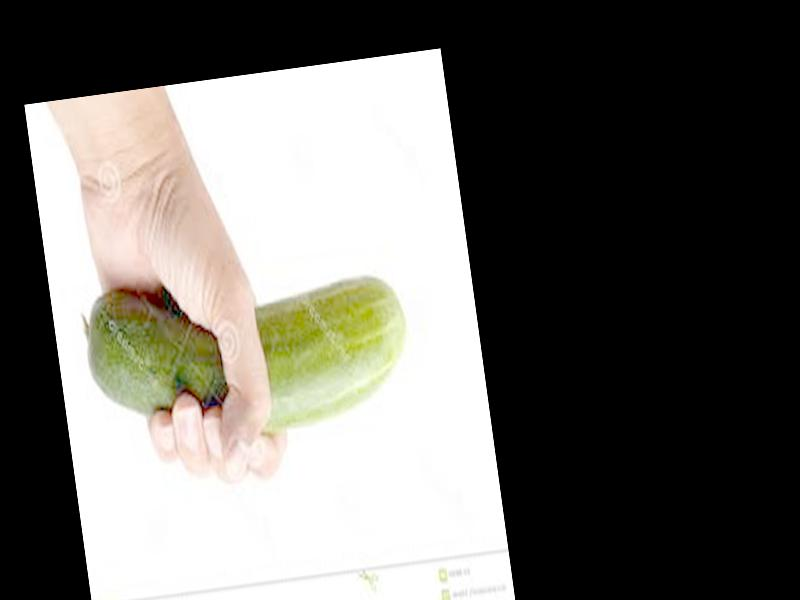Cucumber: (82, 253, 418, 457)
